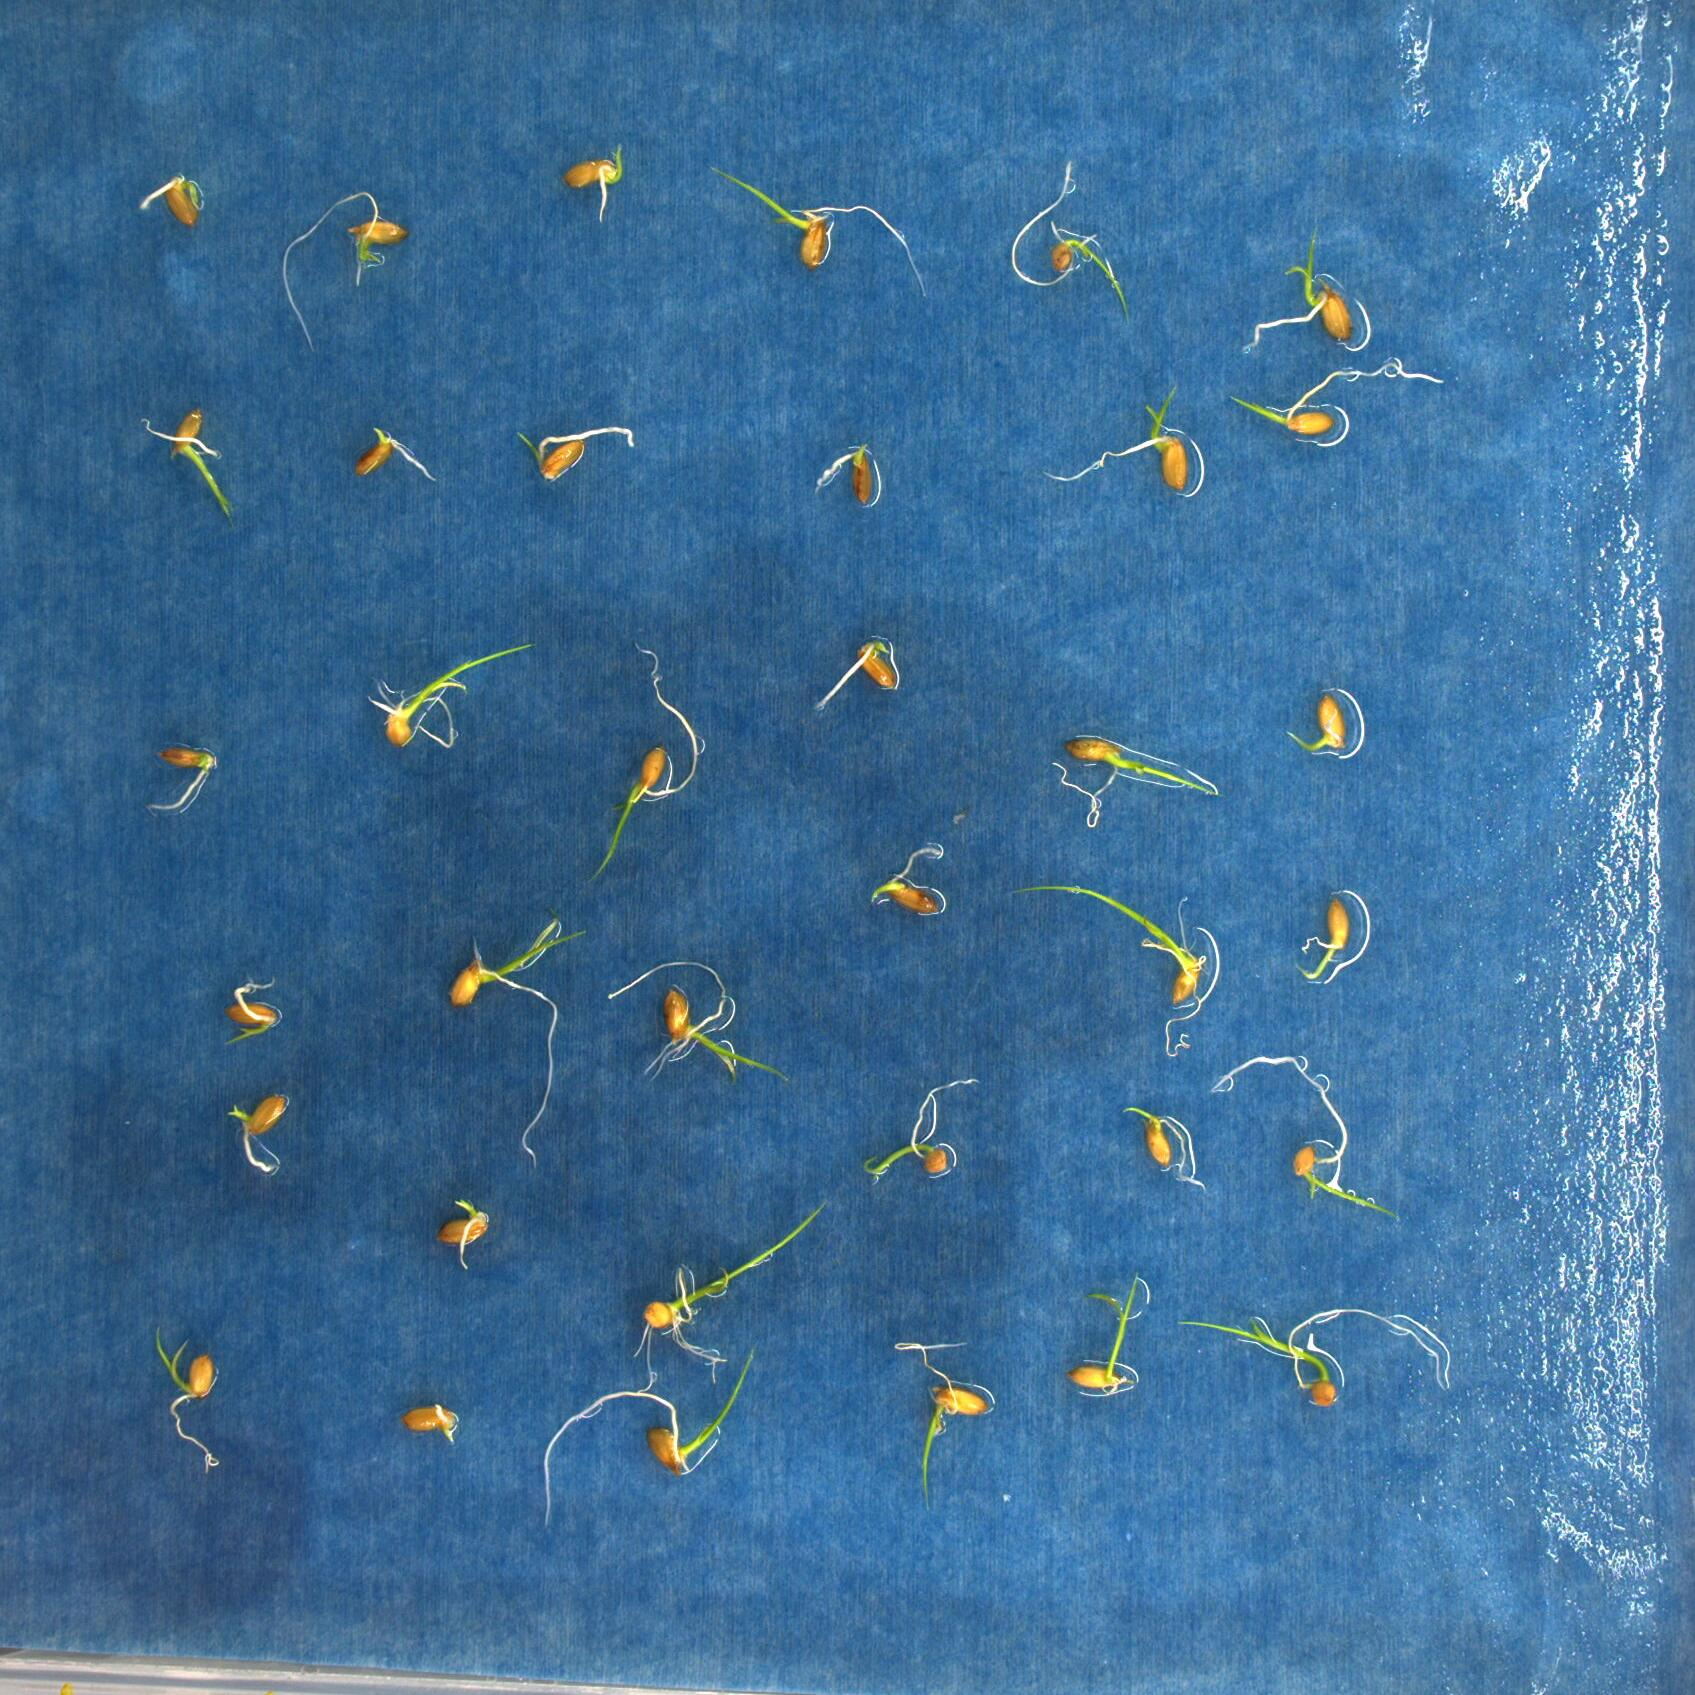not sprout: (816, 636, 903, 709), (225, 1094, 289, 1177), (147, 737, 217, 810), (354, 421, 438, 477), (813, 444, 883, 506), (397, 1400, 459, 1445)
sprout: (542, 1347, 757, 1532), (630, 1201, 837, 1391), (441, 917, 585, 1177), (1010, 880, 1205, 1062), (1212, 1051, 1399, 1225), (714, 168, 930, 301), (1180, 1305, 1445, 1409), (591, 638, 698, 885), (604, 959, 793, 1088), (365, 640, 536, 757), (282, 189, 405, 351), (1014, 157, 1132, 320), (1032, 380, 1194, 494), (899, 1338, 992, 1516), (1051, 733, 1225, 827), (1250, 214, 1354, 355), (1228, 365, 1442, 432), (1062, 1274, 1153, 1406), (861, 1076, 973, 1181), (137, 400, 234, 514), (158, 1321, 224, 1465), (1125, 1105, 1212, 1198), (515, 419, 636, 477), (868, 851, 944, 924), (213, 976, 281, 1051), (560, 141, 626, 217), (432, 1194, 492, 1271), (1295, 893, 1346, 979), (1291, 689, 1350, 757), (140, 174, 206, 224)
